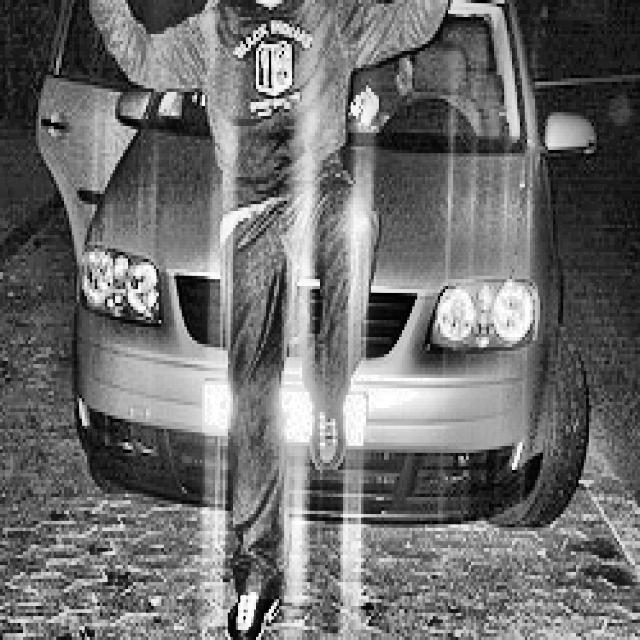light_vehicle: (26, 0, 606, 531)
